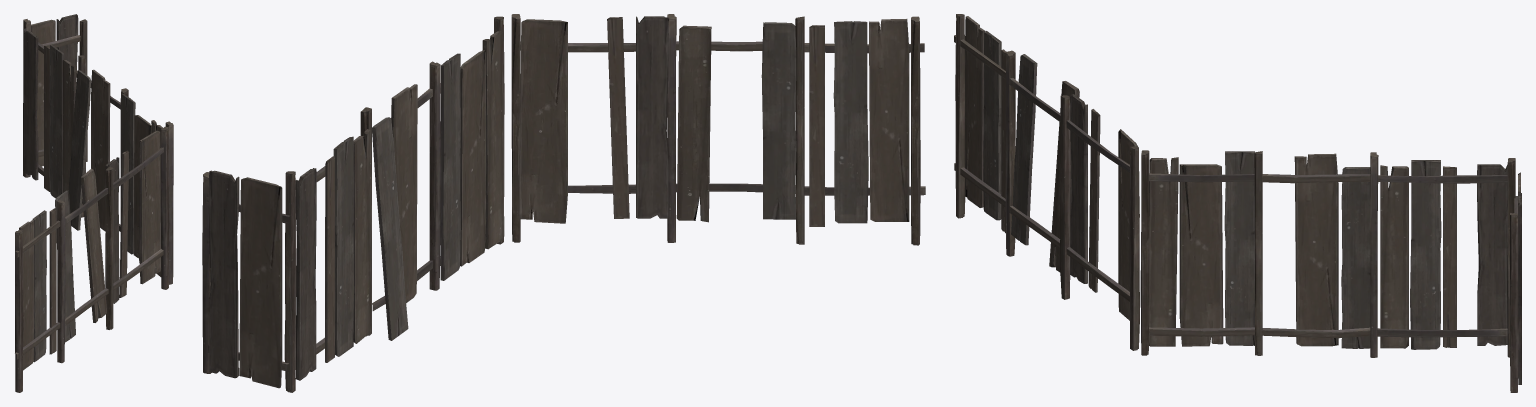
3 views of the same model, side by side, from view 1: azimuth 30°, elevation 25°; view 2: azimuth 150°, elevation 25°; view 3: azimuth 270°, elevation 25° (orthographic). The views are drawn at different scales.
Parts seen in each view (by area): view 1: body0_model0_lod0_mesh0; view 2: body0_model0_lod0_mesh0; view 3: body0_model0_lod0_mesh0.
Boxes of the visible parts, left/top/right/bottom form: body0_model0_lod0_mesh0: left=15, top=14, right=173, bottom=392; body0_model0_lod0_mesh0: left=202, top=14, right=925, bottom=392; body0_model0_lod0_mesh0: left=954, top=14, right=1521, bottom=392.
Size of the model in its own units: 472 by 251 by 629.
1 material, 1 textured.
